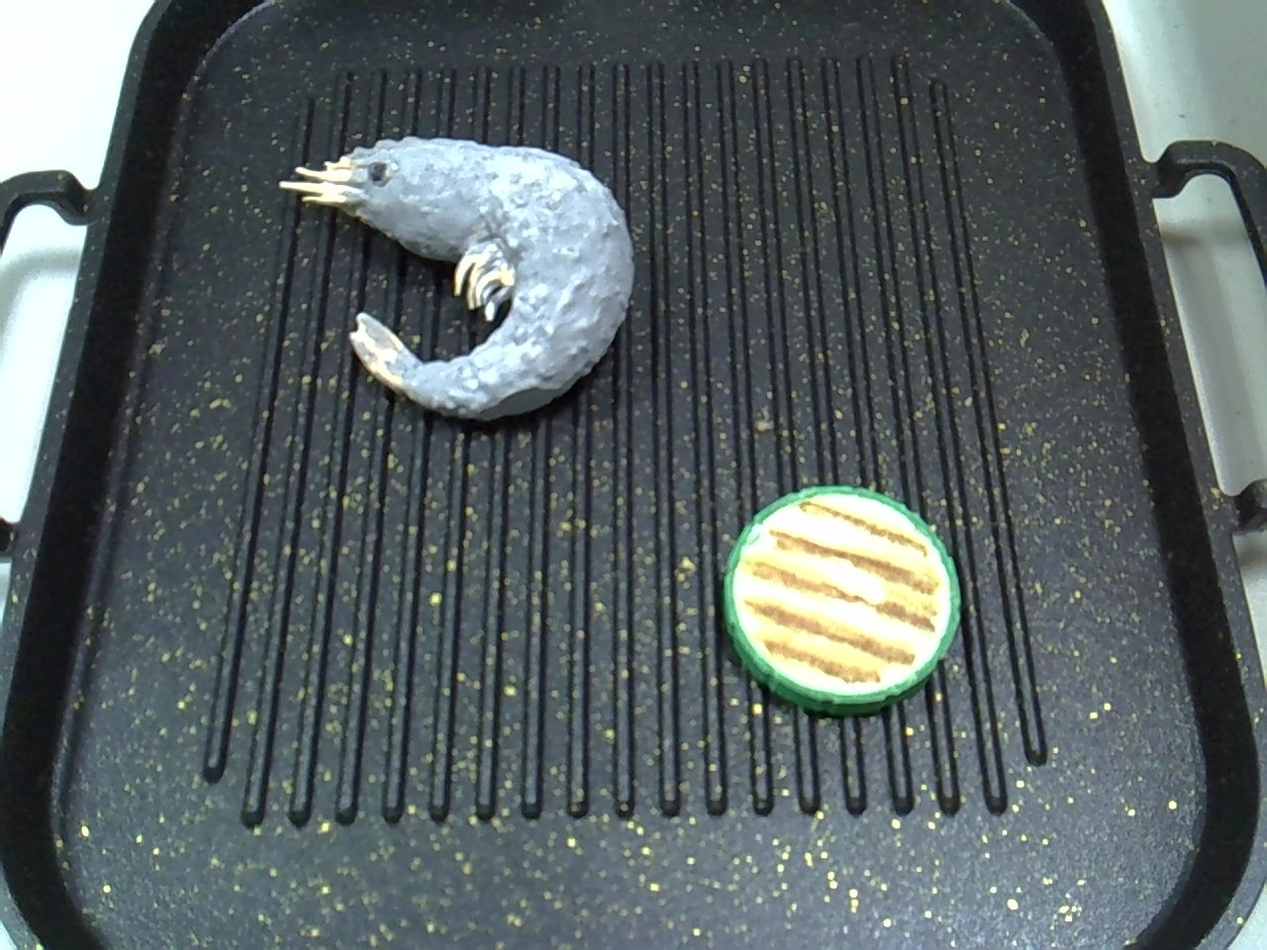shrimp_raw: (262, 120, 654, 438)
zucchini_cooked: (700, 463, 975, 733)
